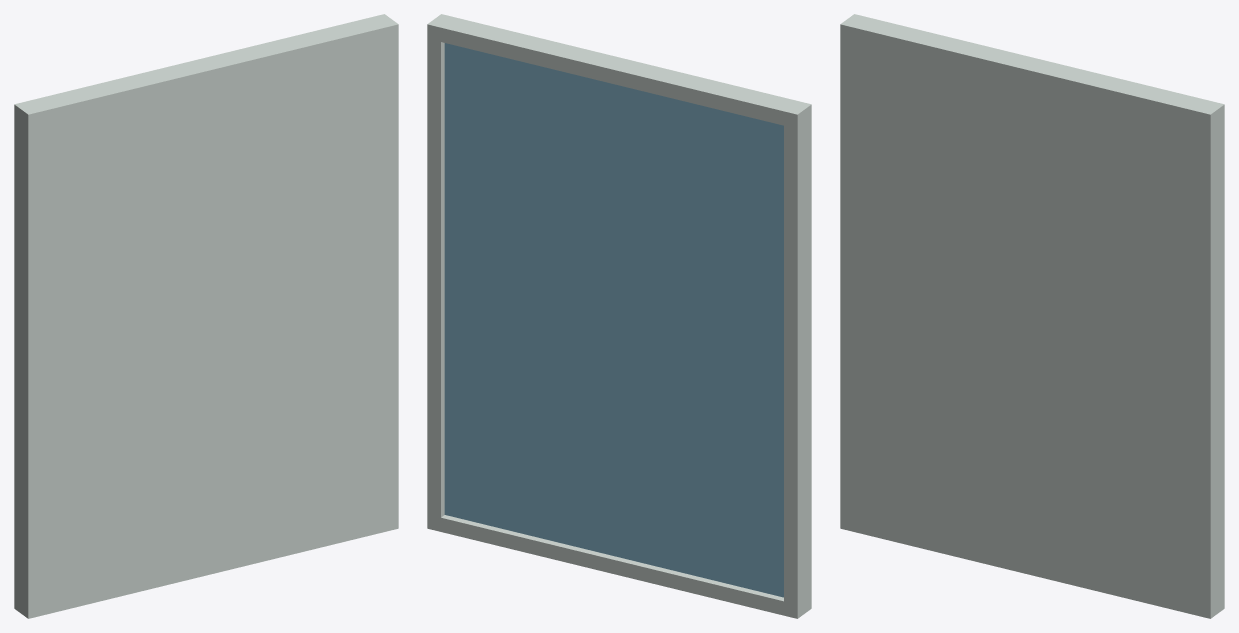
Rendered from SM_Mirror_01.fbx.
3 views of the same model, side by side, from view 1: azimuth 30°, elevation 25°; view 2: azimuth 150°, elevation 25°; view 3: azimuth 330°, elevation 25° (orthographic).
Visible parts, largest first — view 1: SM_Mirror_01; view 2: SM_Mirror_01; view 3: SM_Mirror_01.
Part boxes in pixels (bbox=[...]): SM_Mirror_01: bbox=[14, 14, 398, 618]; SM_Mirror_01: bbox=[427, 14, 811, 618]; SM_Mirror_01: bbox=[840, 14, 1224, 618].
Size of the model in its own units: 70.46 by 91.69 by 4.66.
